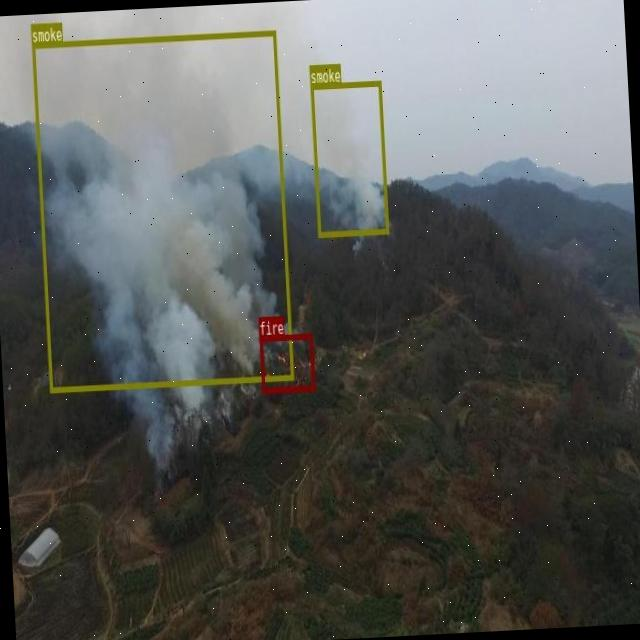fire: (258, 333, 314, 392)
smoke: (32, 30, 294, 392), (311, 80, 388, 236)
